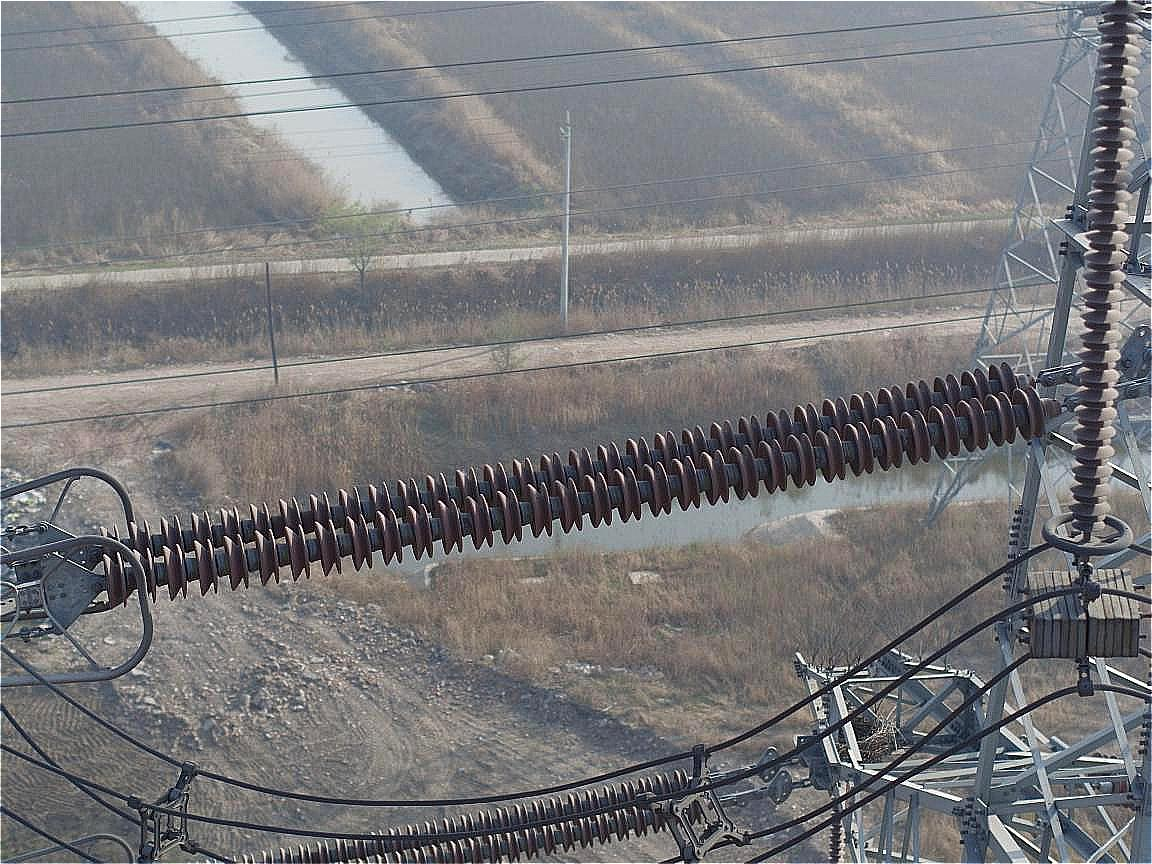insultor2: (98, 360, 1046, 609)
